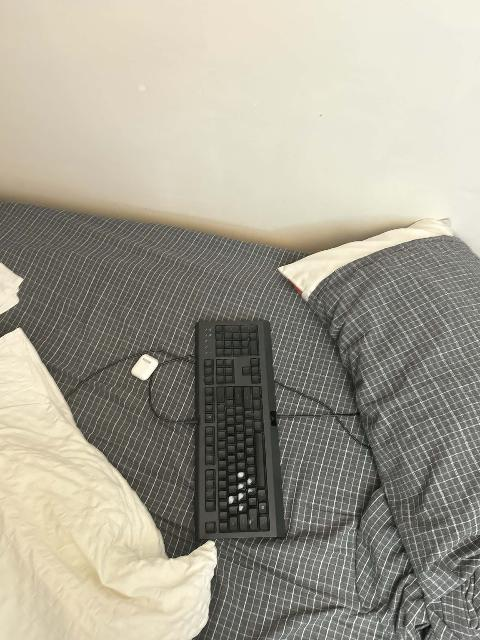ahkeyboard: (184, 310, 298, 553)
